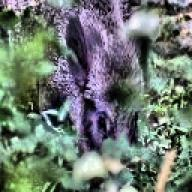boar: (0, 0, 146, 158)
